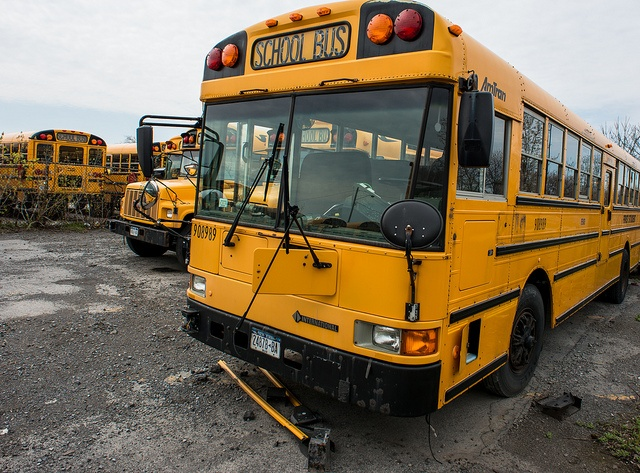bus: (136, 1, 640, 416), (112, 137, 308, 397), (103, 142, 264, 344), (0, 128, 107, 346)
